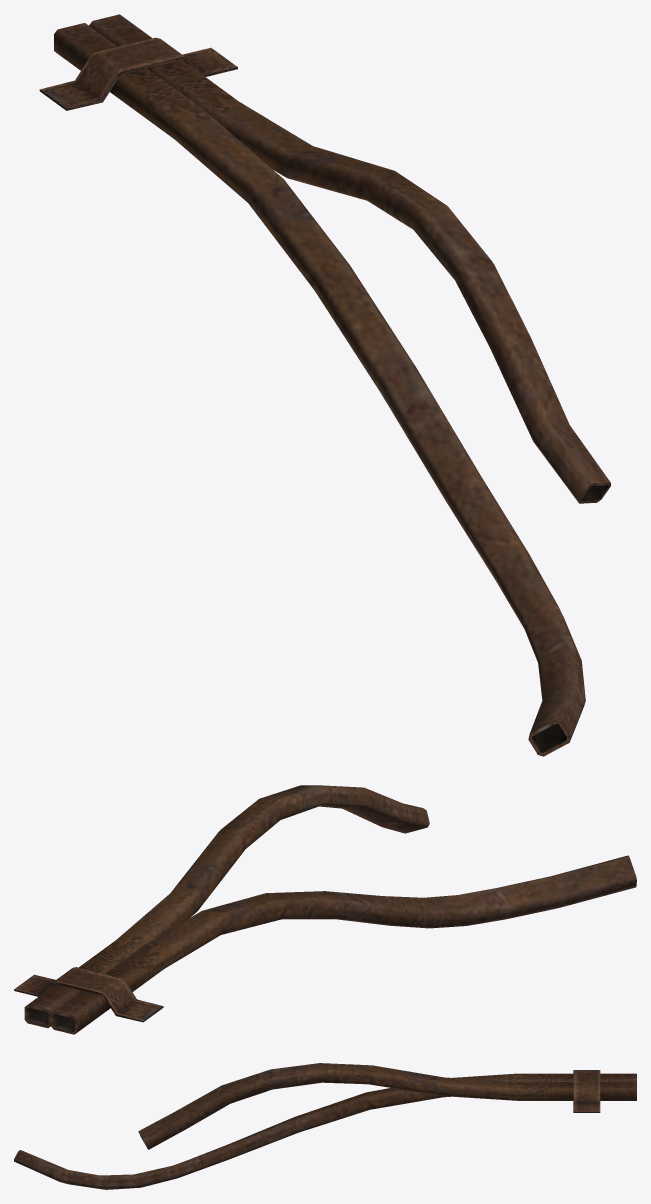
Rendered from girder_rusty_support_damage01.dae.
The picture shows the model from 3 angles, top to bottom: view 1: azimuth 30°, elevation 25°; view 2: azimuth 150°, elevation 25°; view 3: azimuth 270°, elevation 25°; orthographic projection. The views are drawn at different scales.
Parts seen in each view (by area): view 1: dmage01; view 2: dmage01; view 3: dmage01.
Part boxes in pixels (x1,y1,x2,y2): dmage01: [39, 14, 610, 756]; dmage01: [14, 785, 636, 1034]; dmage01: [14, 1063, 636, 1189].
Bounding box in the file's own units: 0.6561 × 0.7374 × 2.79.
